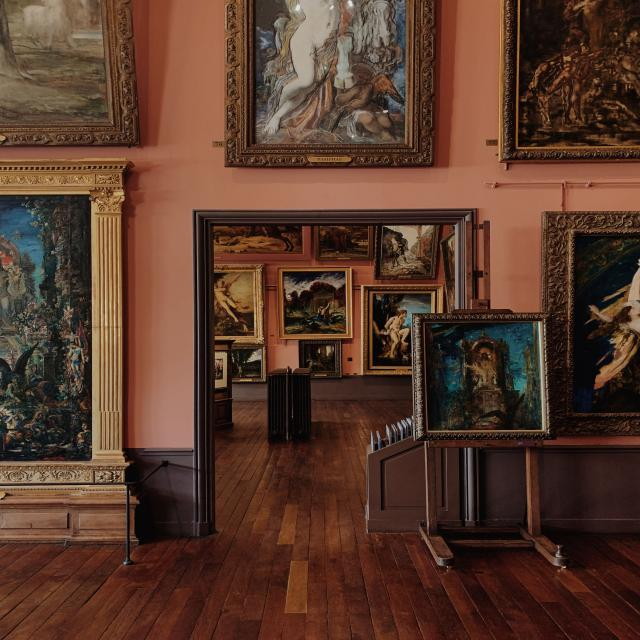Tablo: (0, 192, 95, 464), (248, 0, 412, 147), (423, 320, 545, 432), (371, 293, 432, 368), (282, 270, 347, 335), (379, 225, 436, 276), (213, 272, 255, 337), (213, 226, 303, 254), (318, 225, 369, 258), (231, 348, 262, 379), (303, 344, 336, 373)
